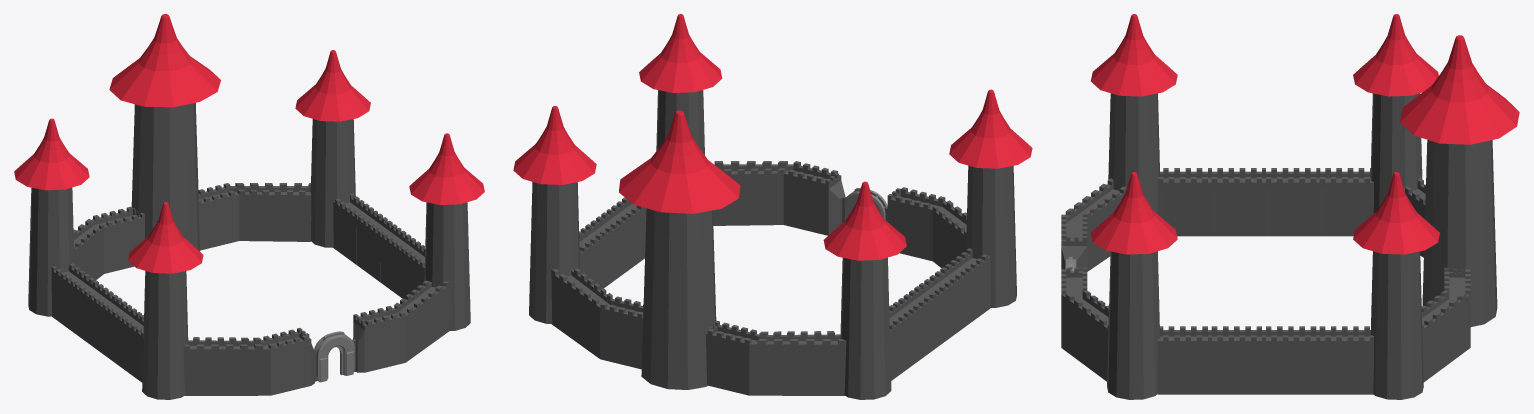
Rendered from Castle.glb.
3 views of the same model, side by side, from view 1: azimuth 30°, elevation 25°; view 2: azimuth 150°, elevation 25°; view 3: azimuth 270°, elevation 25° (orthographic). The views are drawn at different scales.
Parts seen in each view (by area): view 1: TowersFront, TowersBack, WallsFront, TowersBackCenter, WallsBack, WallsSide.001, WallsSide.003, WallsSide.002, WallsSide, Arch; view 2: TowersBack, TowersBackCenter, WallsBack, TowersFront, WallsFront, WallsSide.002, WallsSide.001, WallsSide.003, WallsSide, Arch; view 3: TowersFront, TowersBack, TowersBackCenter, WallsSide.001, WallsSide.002, WallsFront, WallsSide, WallsSide.003, WallsBack.
Part boxes in pixels (x1,y1,x2,y2): TowersFront: [128, 133, 484, 399]; TowersBack: [14, 50, 370, 316]; WallsFront: [183, 280, 449, 395]; TowersBackCenter: [109, 14, 220, 251]; WallsBack: [73, 183, 311, 280]; WallsSide.001: [98, 227, 420, 367]; WallsSide.003: [51, 193, 373, 333]; WallsSide.002: [75, 210, 397, 350]; WallsSide: [122, 245, 425, 382]; Arch: [314, 331, 354, 382]; TowersBack: [513, 106, 906, 399]; TowersBackCenter: [619, 110, 740, 389]; WallsBack: [551, 268, 846, 395]; TowersFront: [639, 14, 1032, 307]; WallsFront: [713, 161, 966, 267]; WallsSide.002: [580, 212, 938, 364]; WallsSide.001: [606, 197, 964, 345]; WallsSide.003: [579, 231, 912, 380]; WallsSide: [945, 248, 990, 326]; Arch: [843, 187, 887, 221]; TowersFront: [1090, 14, 1177, 399]; TowersBack: [1353, 14, 1439, 399]; TowersBackCenter: [1400, 35, 1519, 326]; WallsSide.001: [1211, 168, 1265, 394]; WallsSide.002: [1266, 168, 1320, 394]; WallsFront: [1061, 178, 1126, 381]; WallsSide: [1157, 168, 1211, 394]; WallsSide.003: [1319, 168, 1373, 394]; WallsBack: [1404, 178, 1470, 382].
Bounding box in the file's own units: 81.75 × 53.61 × 81.3.
